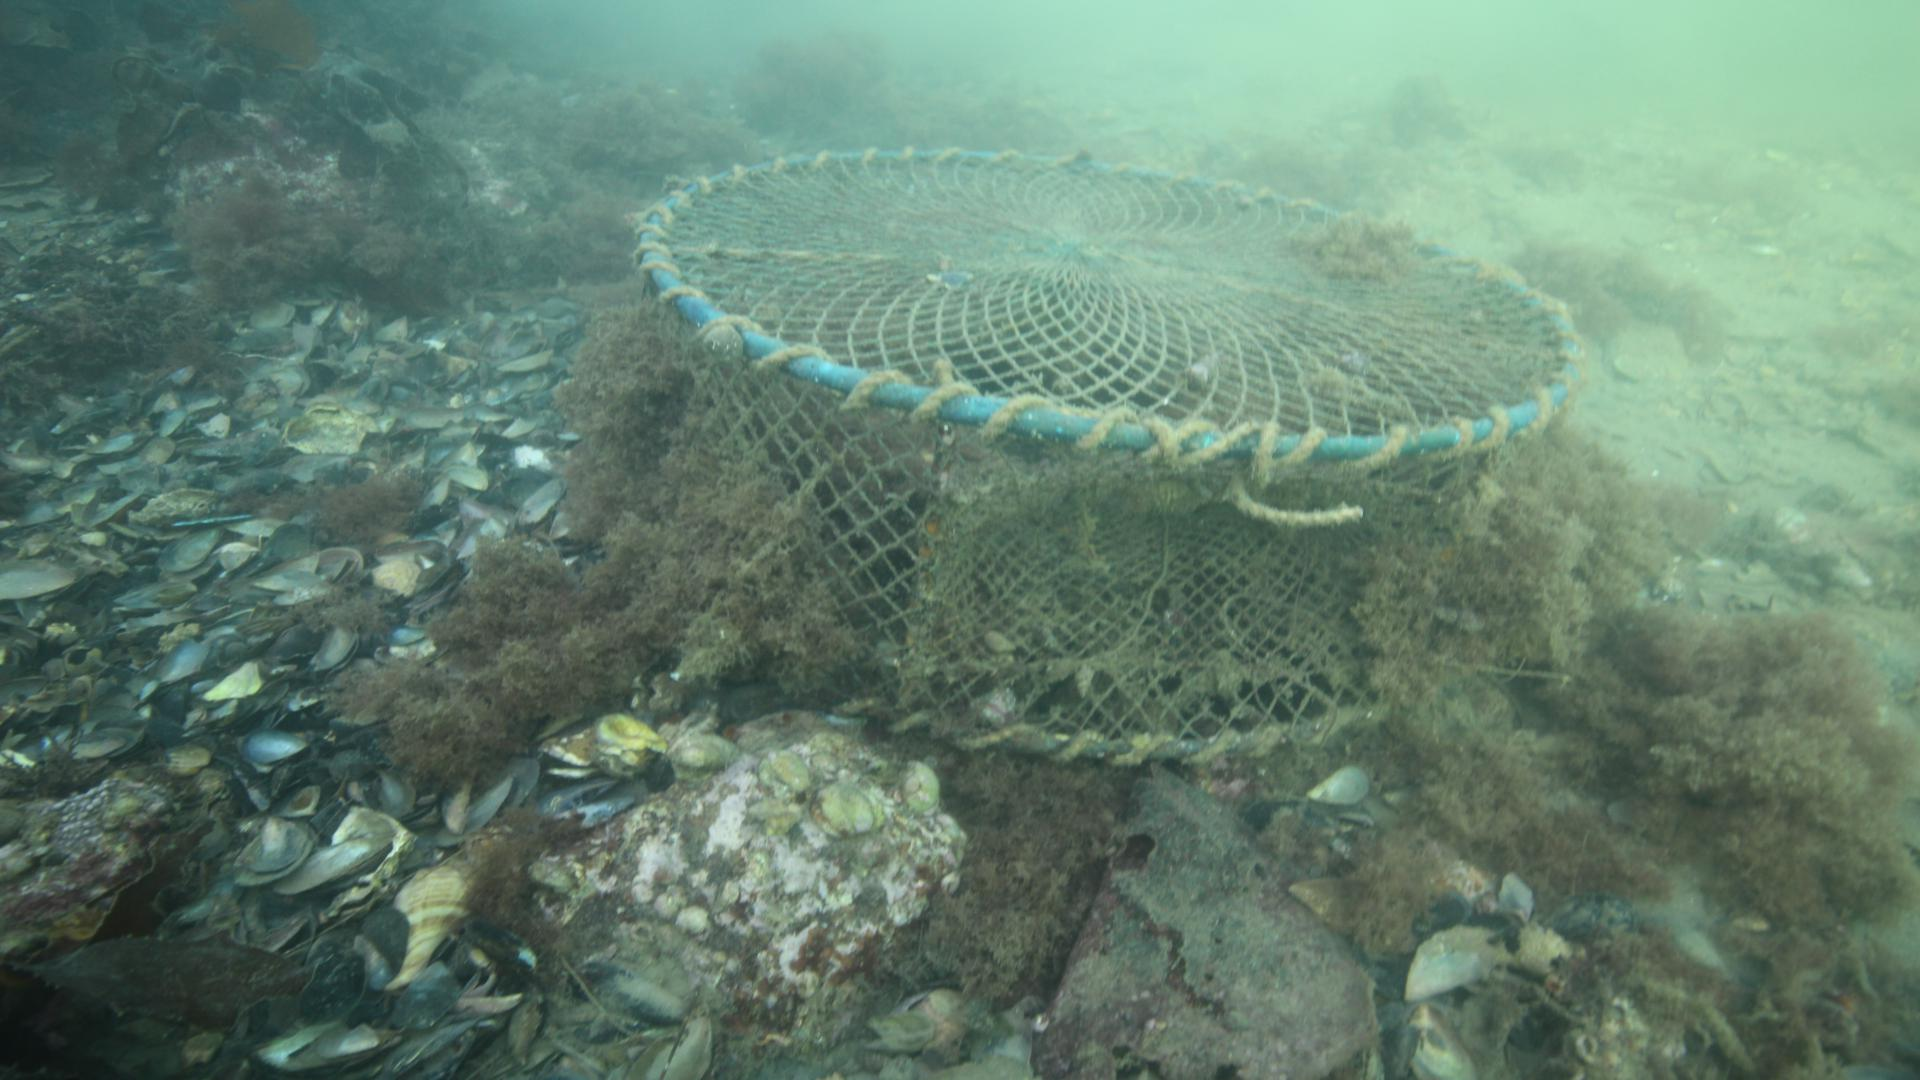circular fish trap: (630, 141, 1589, 767)
